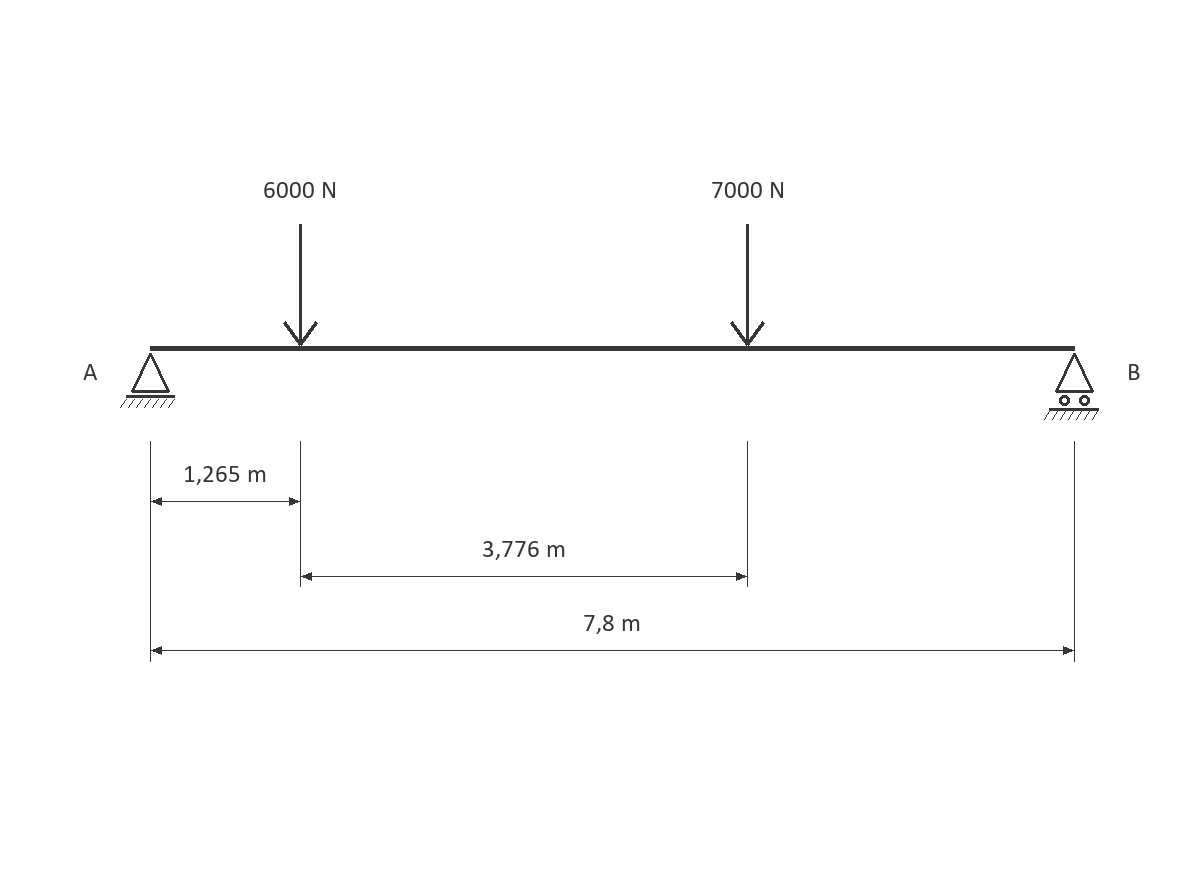pin_support: (120, 353, 175, 408)
point_load: (283, 224, 318, 346), (730, 224, 765, 346)
roller_support: (1044, 353, 1099, 420)
